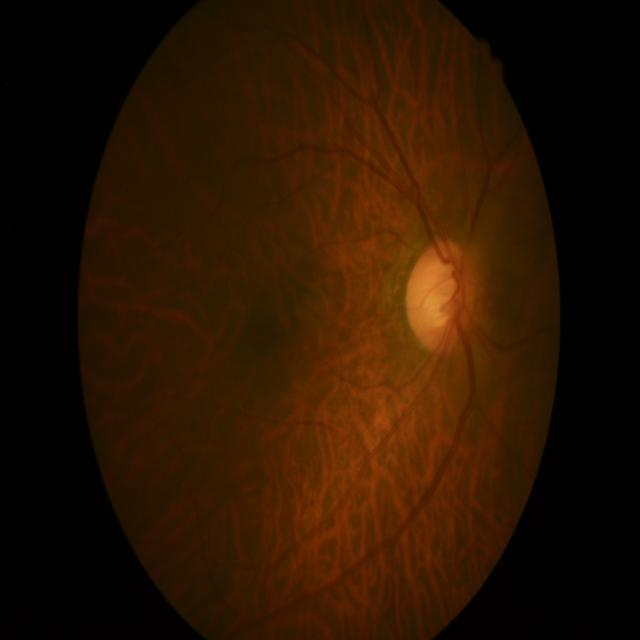cup: (418, 263, 465, 332)
disk: (406, 239, 478, 353)
